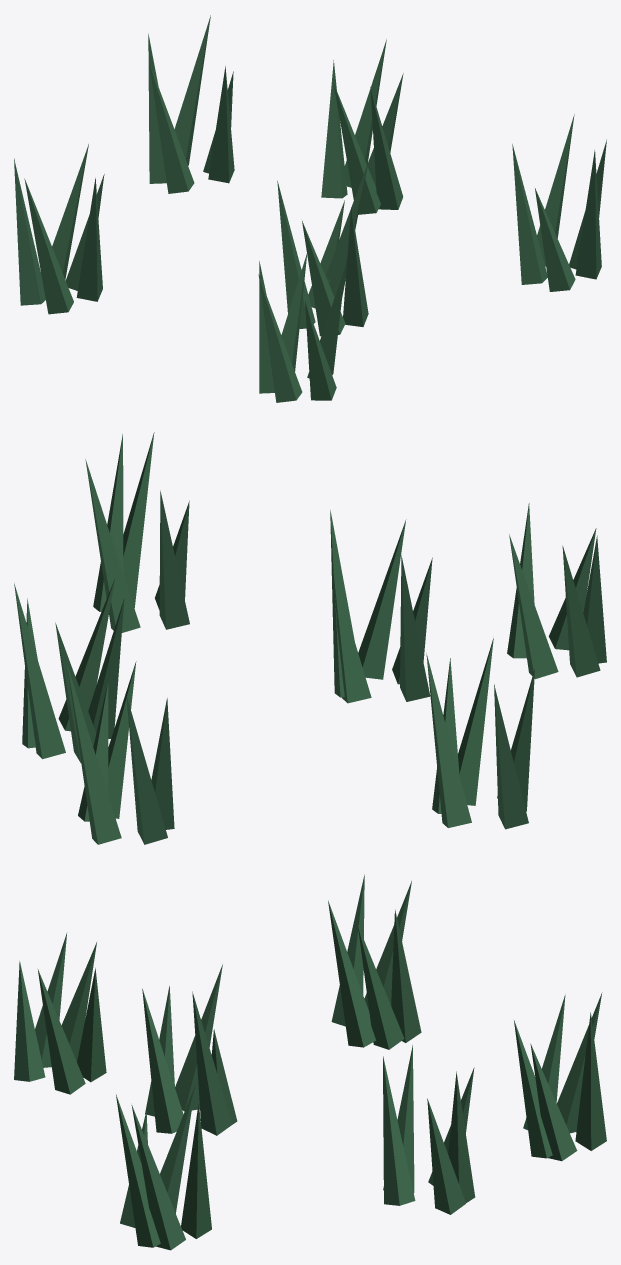
The model's file is terrain_bush_low.glb.
3 renders of one model, top to bottom at view 1: azimuth 30°, elevation 25°; view 2: azimuth 150°, elevation 25°; view 3: azimuth 270°, elevation 25°, orthographic. The views are drawn at different scales.
Visible parts, largest first — view 1: terrain_bush_low; view 2: terrain_bush_low; view 3: terrain_bush_low.
Boxes of the visible parts, x1,y1,x2,y2 form: terrain_bush_low: (14, 15, 606, 402); terrain_bush_low: (14, 432, 606, 844); terrain_bush_low: (14, 874, 606, 1250).
Bounding box in the file's own units: 2.16 × 0.6433 × 2.25.
